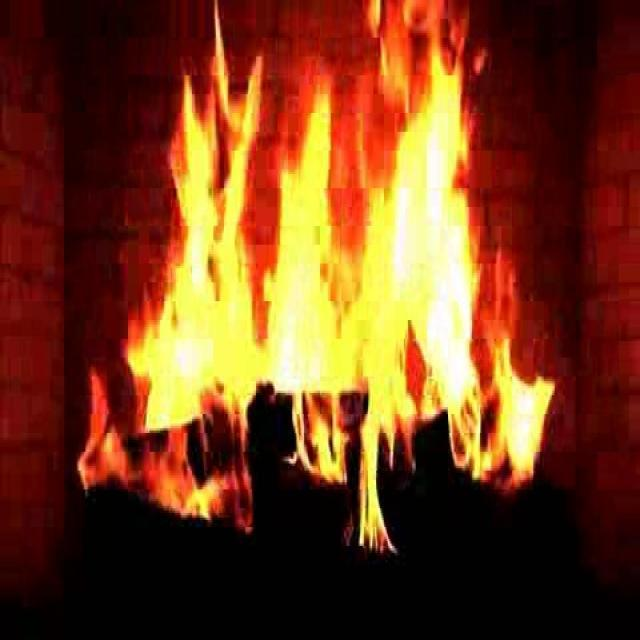Fire: (174, 109, 494, 536)
